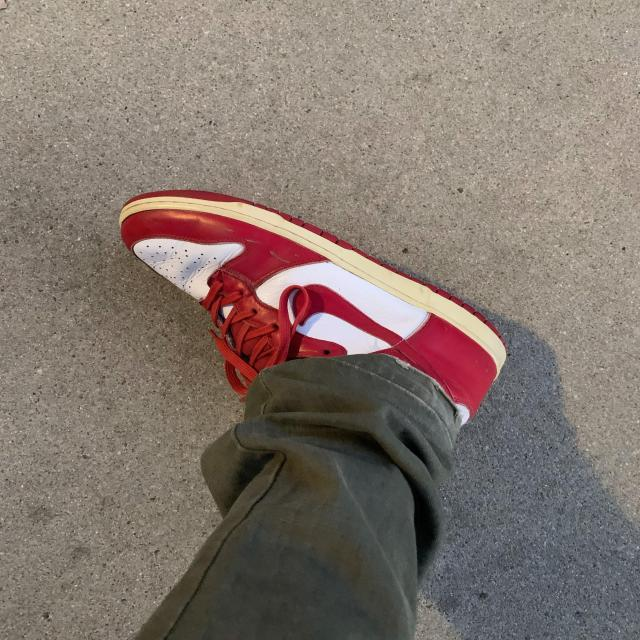shoe: (60, 146, 551, 460)
